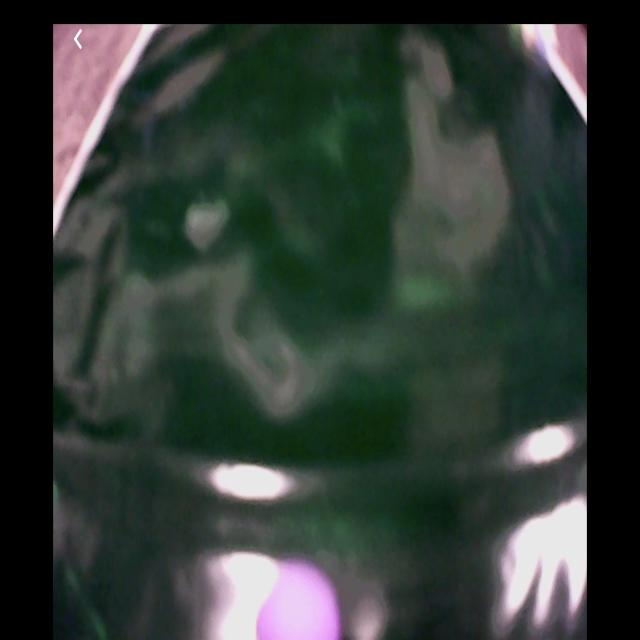ball: (251, 560, 344, 640)
